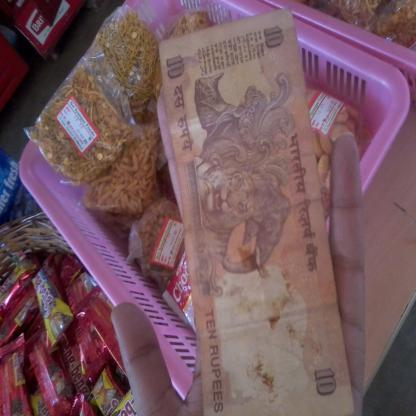Old10Back: (158, 7, 358, 416)
